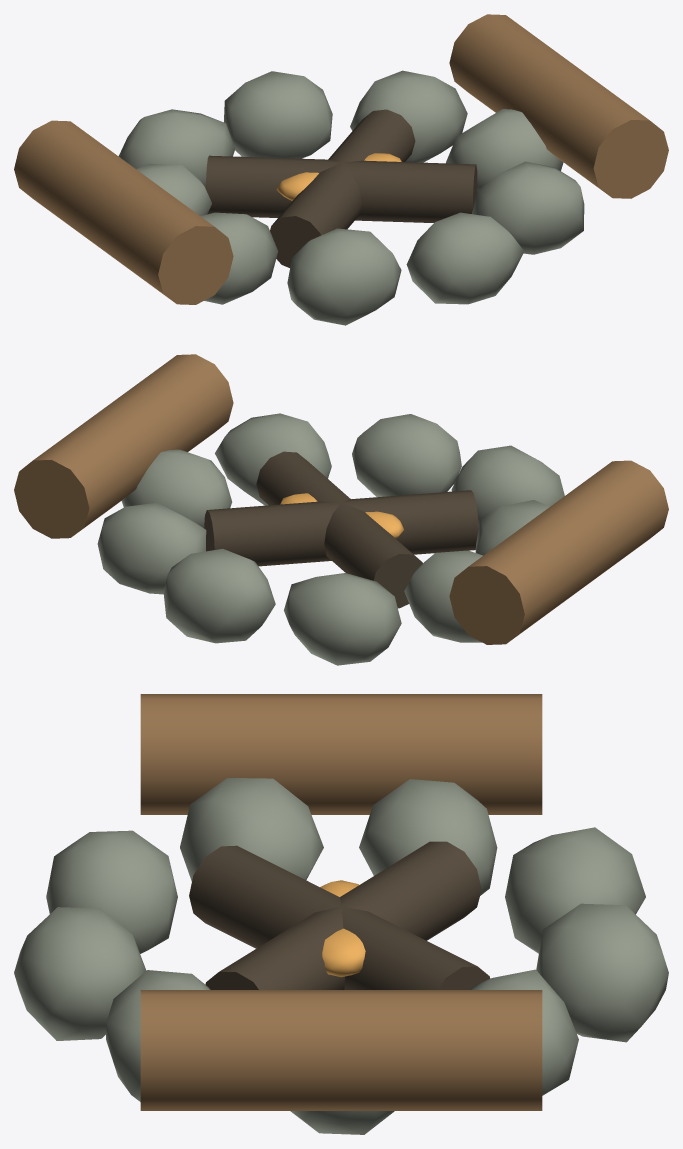
The model's file is camp.glb.
The picture shows the model from 3 angles, top to bottom: view 1: azimuth 30°, elevation 25°; view 2: azimuth 150°, elevation 25°; view 3: azimuth 270°, elevation 25°; orthographic projection. The views are drawn at different scales.
Visible parts, largest first — view 1: camp_stone, camp_wood, camp_wood_dark, camp_fire; view 2: camp_stone, camp_wood, camp_wood_dark, camp_fire; view 3: camp_wood, camp_stone, camp_wood_dark, camp_fire.
Boxes of the visible parts, x1,y1,x2,y2 form: camp_stone: (118,70,584,325); camp_wood: (14,14,668,304); camp_wood_dark: (205,109,477,267); camp_fire: (276,153,401,200); camp_stone: (97,413,564,665); camp_wood: (14,354,668,644); camp_wood_dark: (204,451,478,608); camp_fire: (280,493,403,538); camp_wood: (140,694,542,1110); camp_stone: (14,778,668,1134); camp_wood_dark: (189,841,490,989); camp_fire: (320,880,365,977).
Size of the model in its own units: 1.76 by 0.3988 by 1.4.
